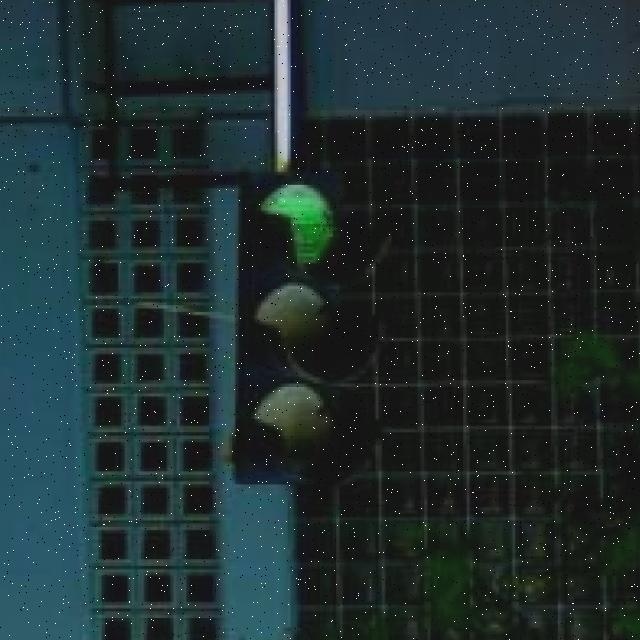Lampu Hijau: (230, 178, 397, 491)
